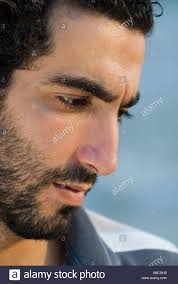middle_eastern_male: (8, 1, 147, 253)
